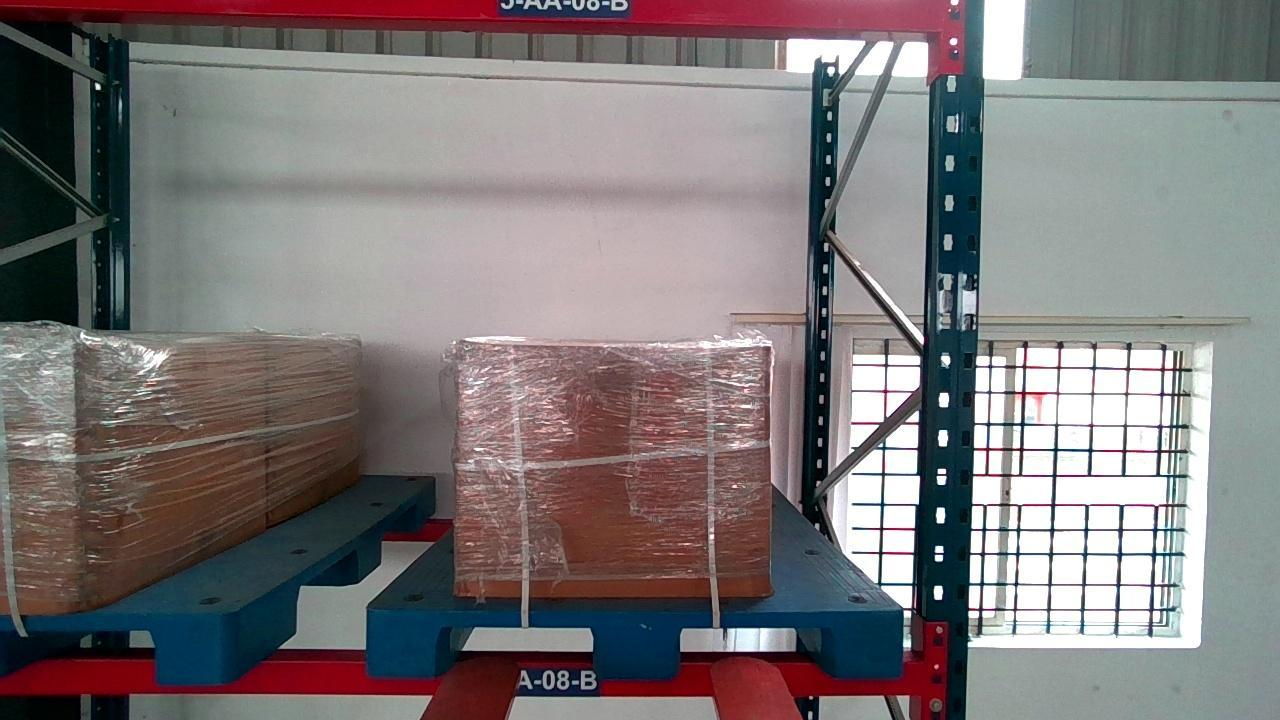h_rack: (0, 655, 915, 695), (2, 0, 932, 30)
small_pallet: (366, 607, 904, 677), (6, 615, 225, 684)
